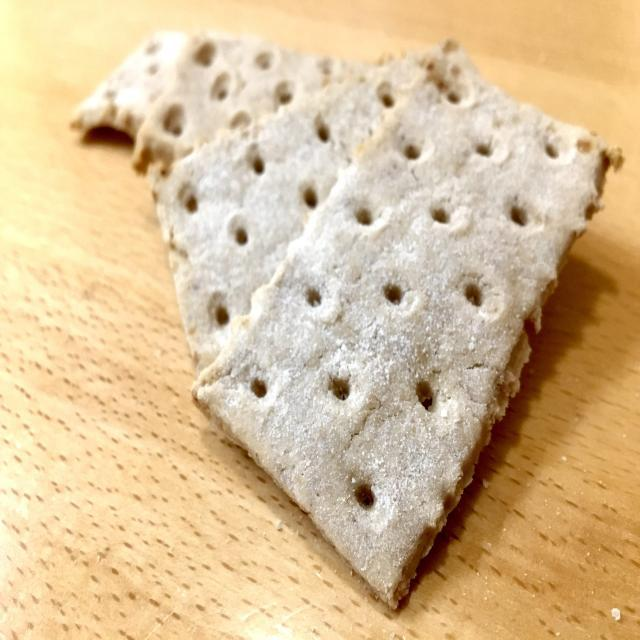Cracker: (215, 40, 623, 596)
